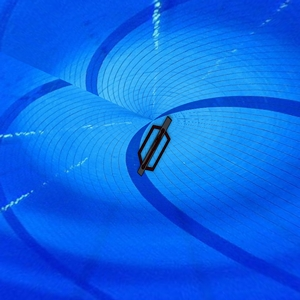submarine: (132, 109, 180, 187)
